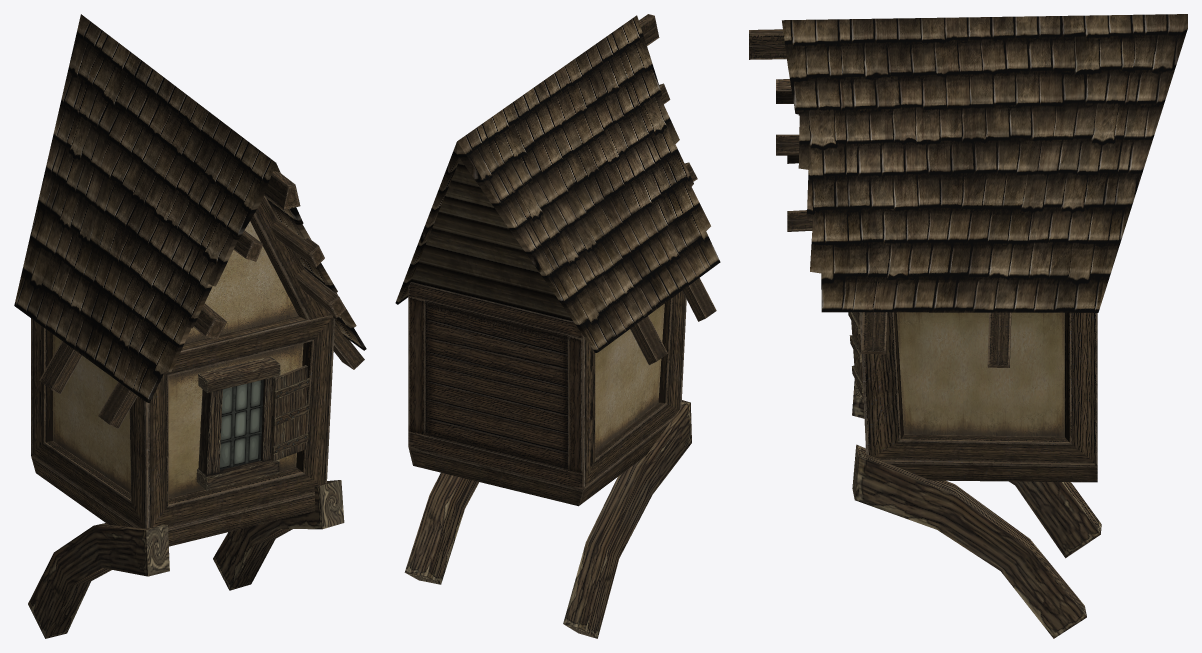
Rendered from Window_a09.fbx.
3 renders of one model, left to right at view 1: azimuth 30°, elevation 25°; view 2: azimuth 150°, elevation 25°; view 3: azimuth 270°, elevation 25°, orthographic. The views are drawn at different scales.
Visible parts, largest first — view 1: Window_a09; view 2: Window_a09; view 3: Window_a09.
Boxes of the visible parts, x1,y1,x2,y2 form: Window_a09: (14, 14, 366, 638); Window_a09: (395, 14, 720, 638); Window_a09: (749, 14, 1187, 638).
Bounding box in the file's own units: 3.76 × 7.68 × 5.25.
